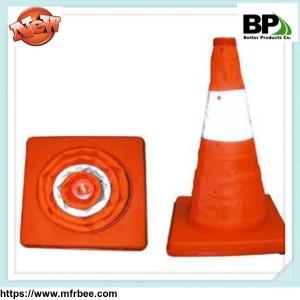traffic cone: (166, 36, 285, 257)
